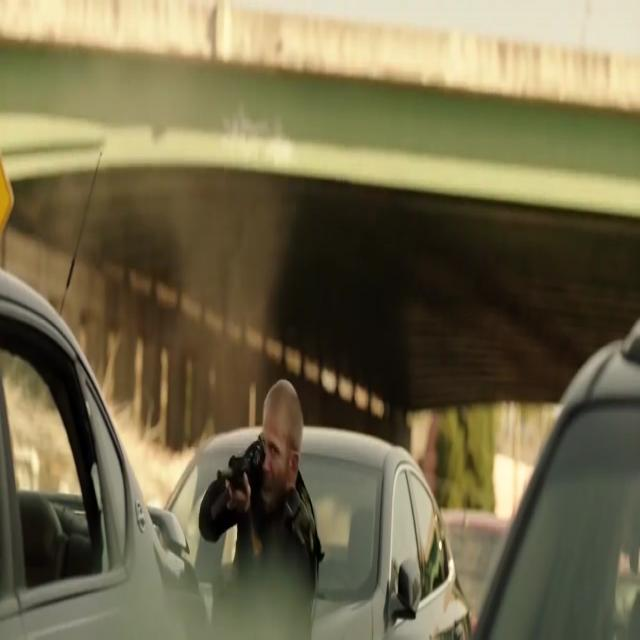Weapon: (214, 419, 278, 542)
